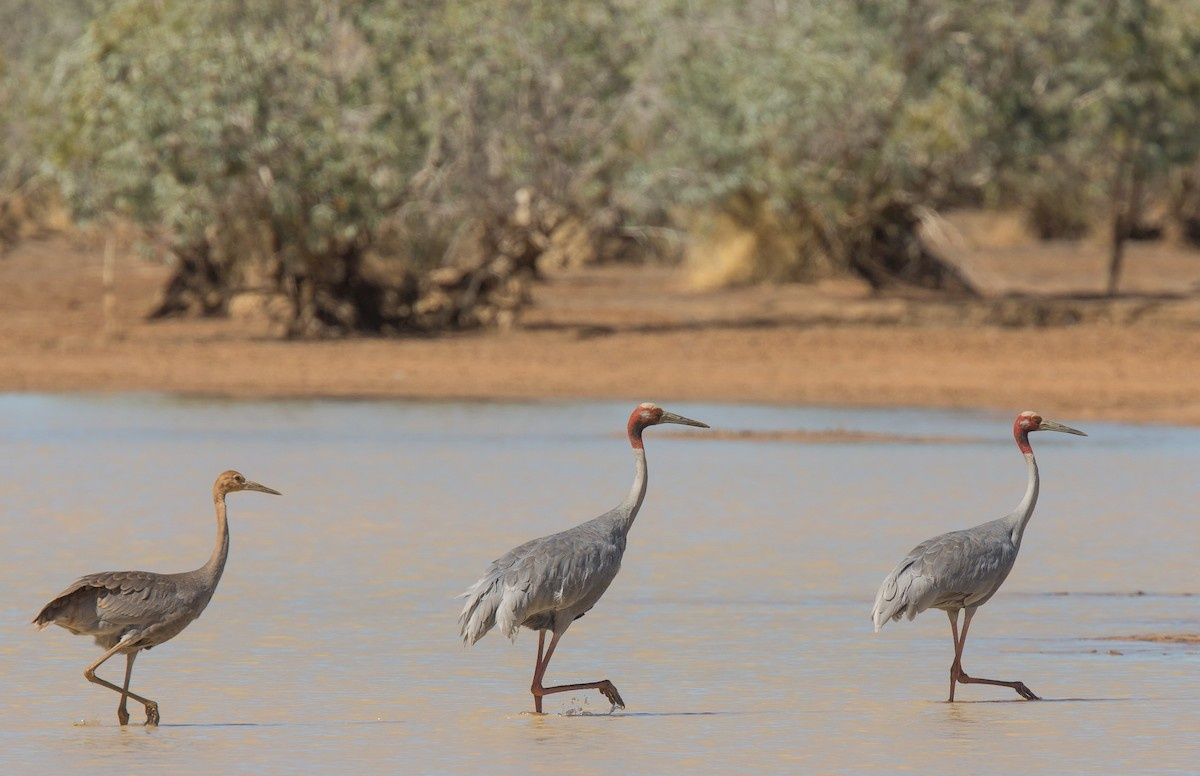crane: (465, 389, 703, 709), (867, 403, 1097, 710), (45, 461, 290, 727)
